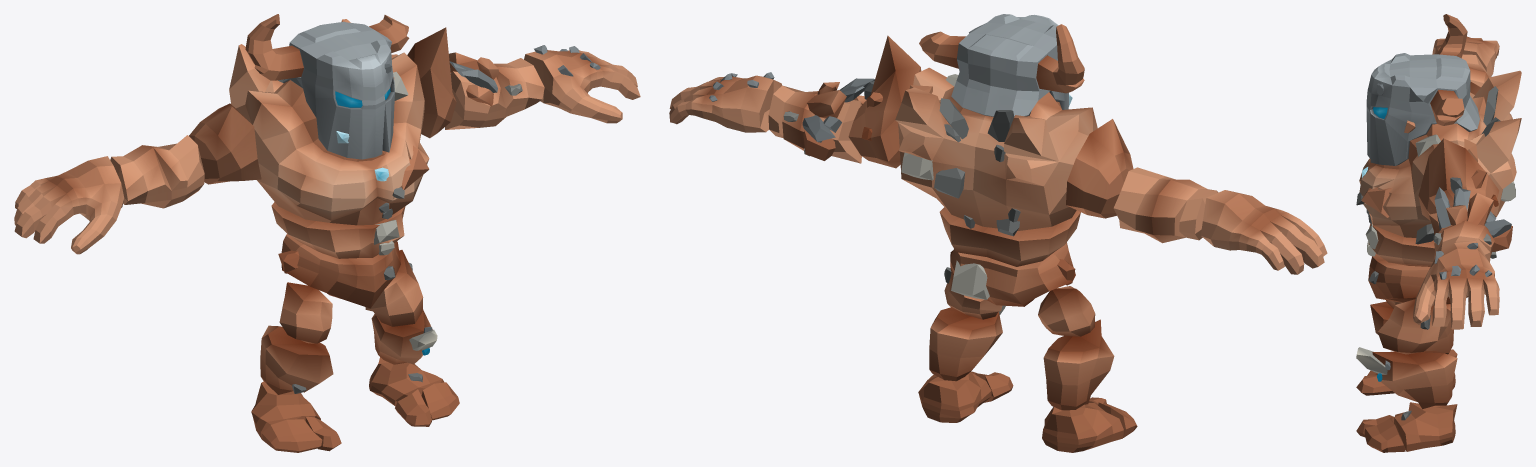
The model's file is enemy.glb.
The picture shows the model from 3 angles, left to right: view 1: azimuth 30°, elevation 25°; view 2: azimuth 150°, elevation 25°; view 3: azimuth 270°, elevation 25°; orthographic projection. The views are drawn at different scales.
Visible parts, largest first — view 1: BigGolem, Rocas2 Hombros, Rocas1, Rocas_NoMirros; view 2: BigGolem, Rocas2 Hombros, Rocas_NoMirros, Rocas1; view 3: BigGolem, Rocas2 Hombros, Rocas1, Rocas_NoMirros.
Part boxes in pixels (x1,y1,x2,y2): BigGolem: (14,14,640,452); Rocas2 Hombros: (449,45,600,106); Rocas1: (374,54,450,355); Rocas_NoMirros: (278,60,422,393); BigGolem: (669,14,1327,452); Rocas2 Hombros: (709,72,882,160); Rocas_NoMirros: (934,94,1075,285); Rocas1: (861,74,1005,314); BigGolem: (1356,14,1521,452); Rocas2 Hombros: (1429,169,1512,279); Rocas1: (1356,134,1515,381); Rocas_NoMirros: (1362,83,1514,420).
Size of the model in its own units: 2.25 by 1.41 by 0.5654.
Materials: 2 (2 with a texture image).
